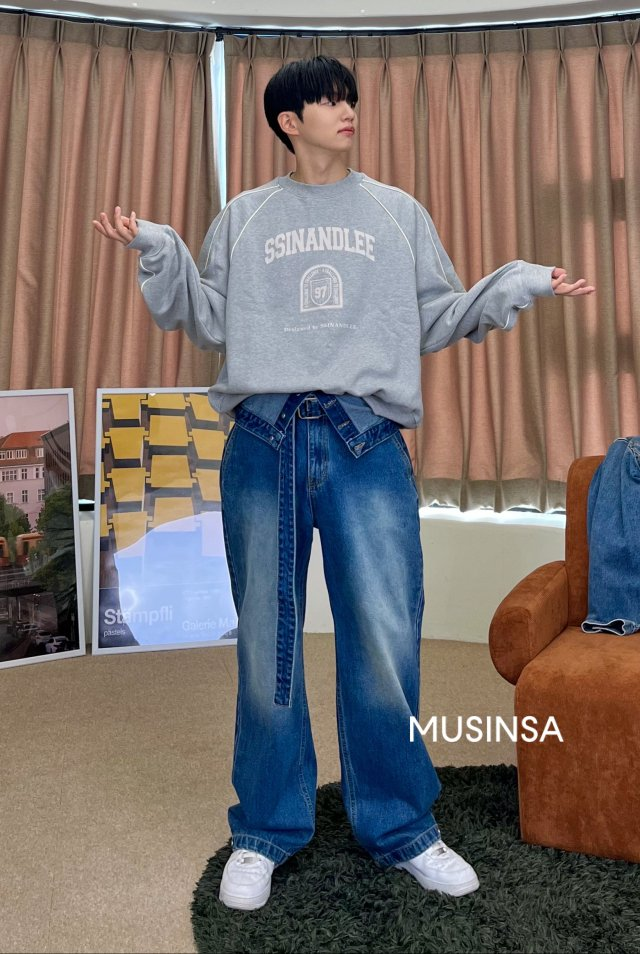Jeans: (210, 396, 442, 848)
Shoes: (214, 844, 489, 924)
Sweatshirt: (184, 160, 520, 416)
